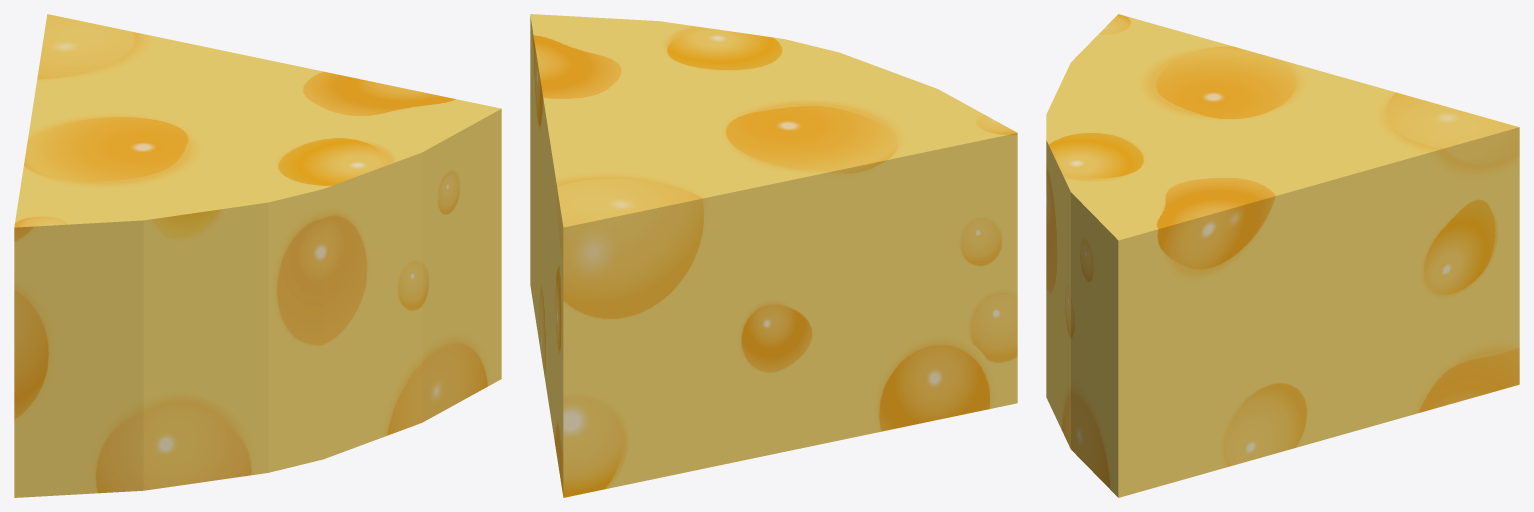
File: Cheese.fbx
The picture shows the model from 3 angles, left to right: view 1: azimuth 30°, elevation 25°; view 2: azimuth 150°, elevation 25°; view 3: azimuth 270°, elevation 25°; orthographic projection. The views are drawn at different scales.
Visible parts, largest first — view 1: Cheese; view 2: Cheese; view 3: Cheese.
Boxes of the visible parts, <box> form: Cheese: <box>14,14,501,497</box>; Cheese: <box>530,14,1017,497</box>; Cheese: <box>1046,14,1519,497</box>.
Bounding box in the file's own units: 71.31 × 37.79 × 62.94.
